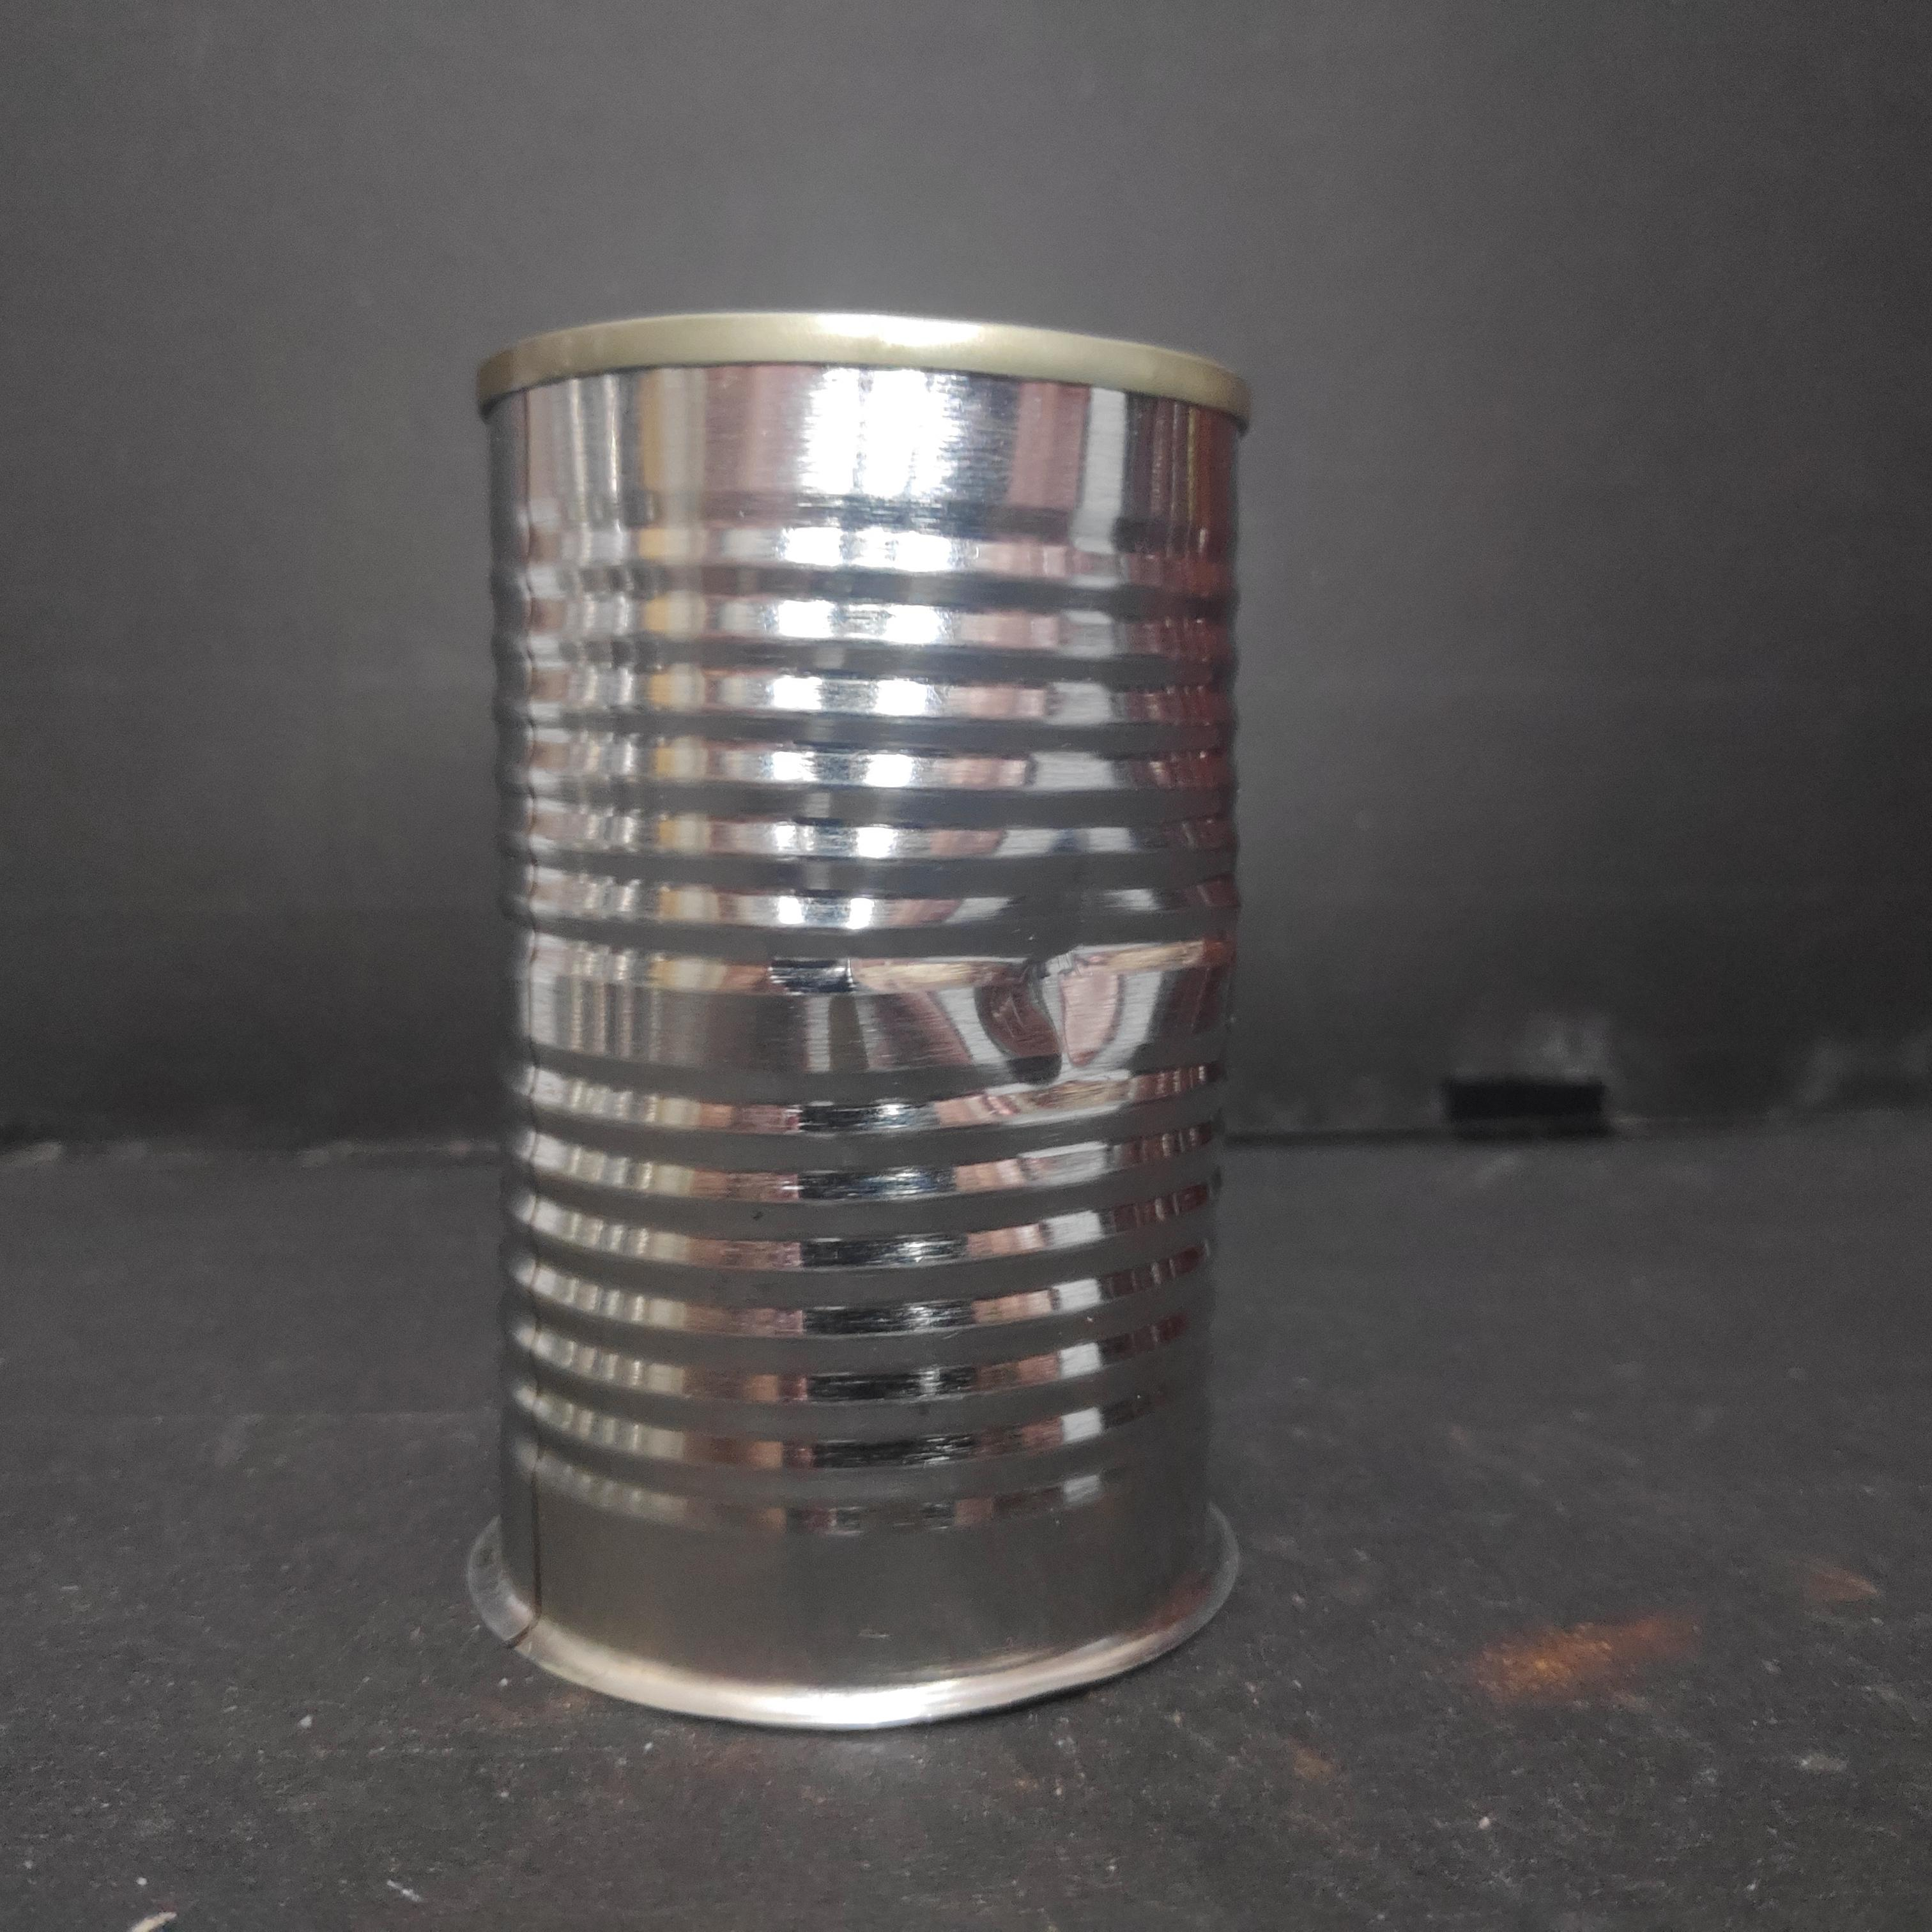Minor Defect: (467, 297, 1260, 1746)
